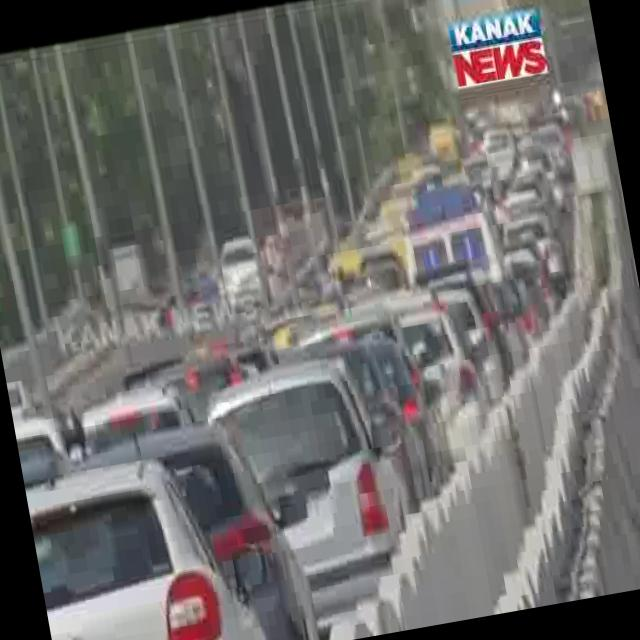ambulance: (395, 177, 489, 280)
